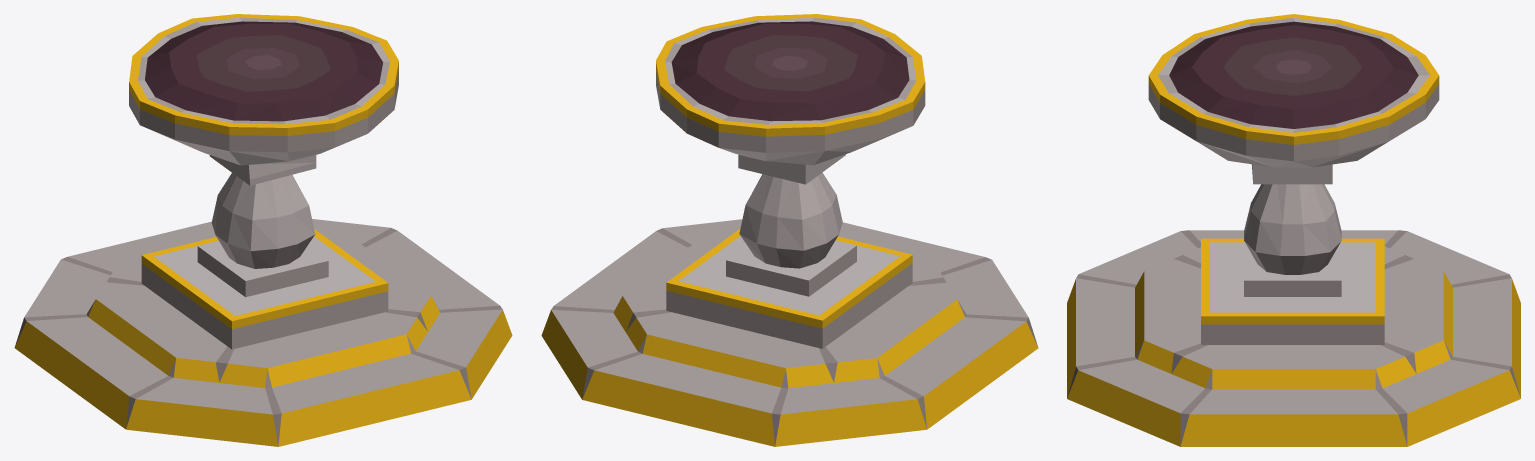
Rendered from restoration-pools.gltf.
3 renders of one model, left to right at view 1: azimuth 30°, elevation 25°; view 2: azimuth 150°, elevation 25°; view 3: azimuth 270°, elevation 25°, orthographic.
Size of the model in its own units: 200 by 138 by 200.
Materials: 1 (1 with a texture image).
